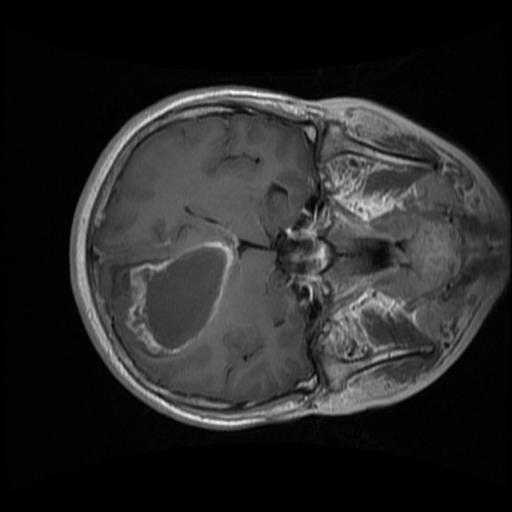glioma: (114, 239, 238, 358)
